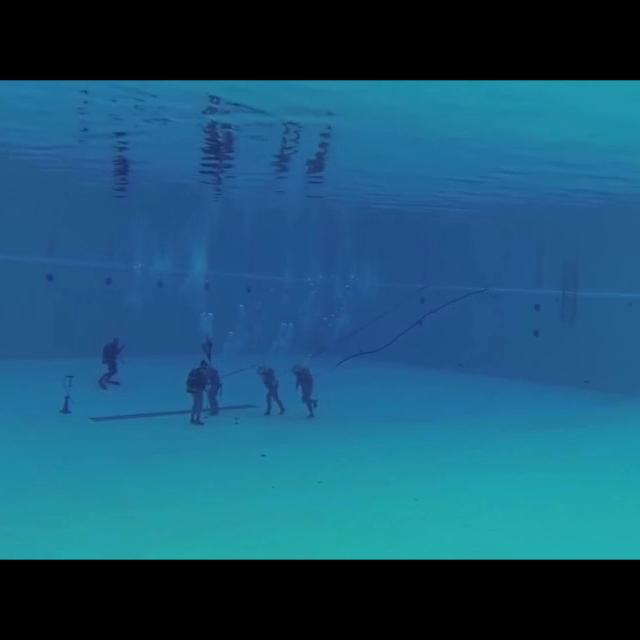human: (286, 359, 325, 423), (182, 355, 214, 429), (254, 361, 290, 422), (92, 330, 126, 394), (196, 359, 229, 421)
